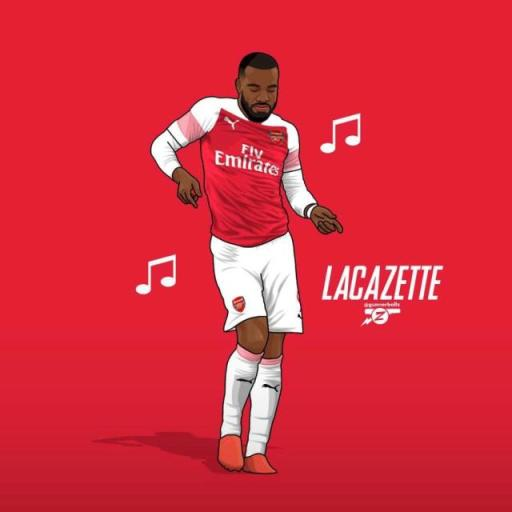Emirates: (214, 141, 280, 177)
